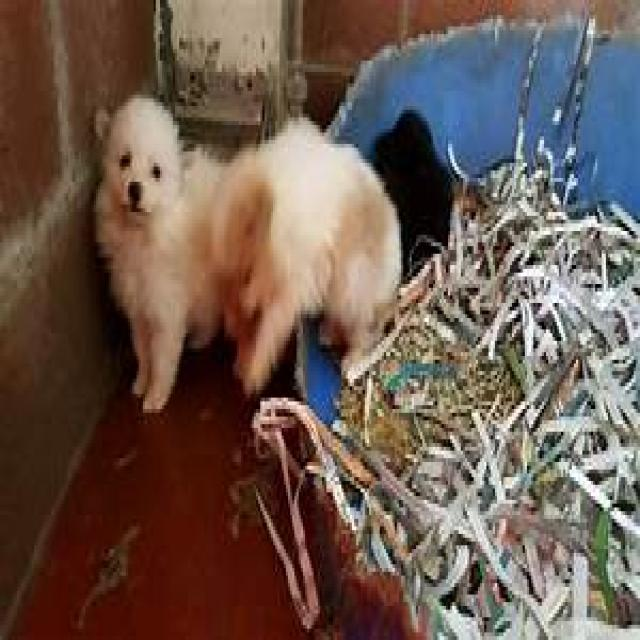KEDI: (85, 95, 219, 419)
